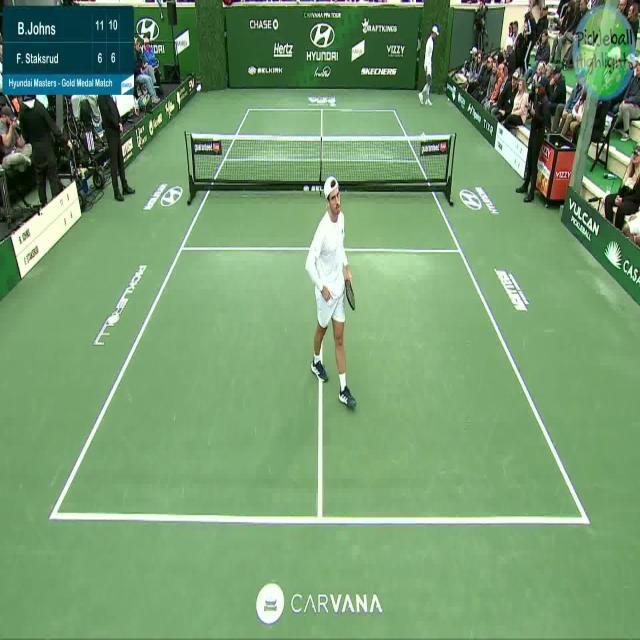ball: (448, 92, 452, 105)
